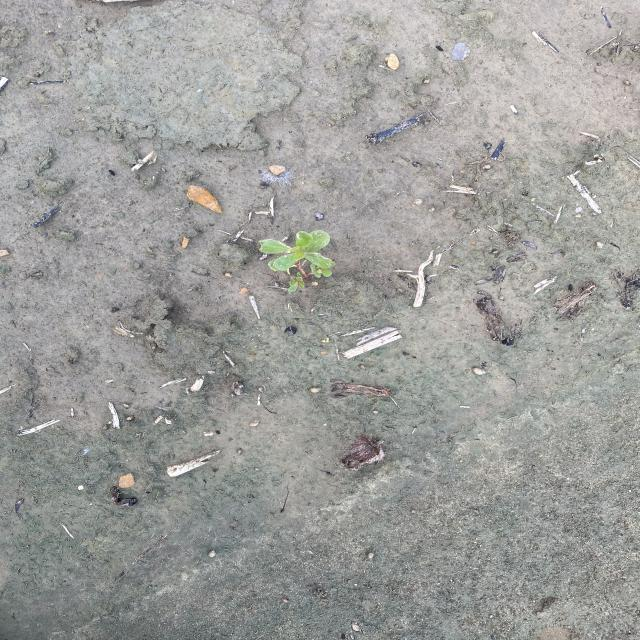Purslane: (257, 229, 338, 296)
